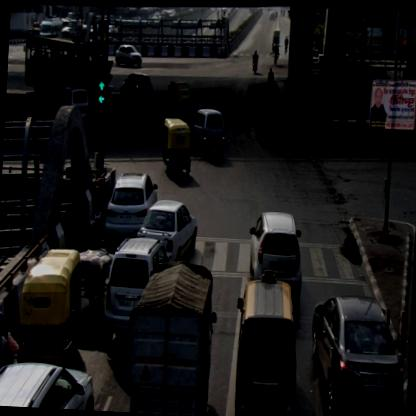bus: (23, 31, 111, 98)
car: (306, 291, 409, 415), (230, 268, 303, 415), (102, 235, 170, 352), (245, 210, 302, 304), (136, 198, 198, 266), (104, 168, 158, 246), (188, 106, 226, 160), (53, 86, 91, 126), (120, 72, 152, 104), (114, 41, 142, 66)
motorcycle: (84, 209, 107, 304), (132, 78, 146, 115), (252, 48, 260, 72)
truck: (129, 261, 220, 415)
